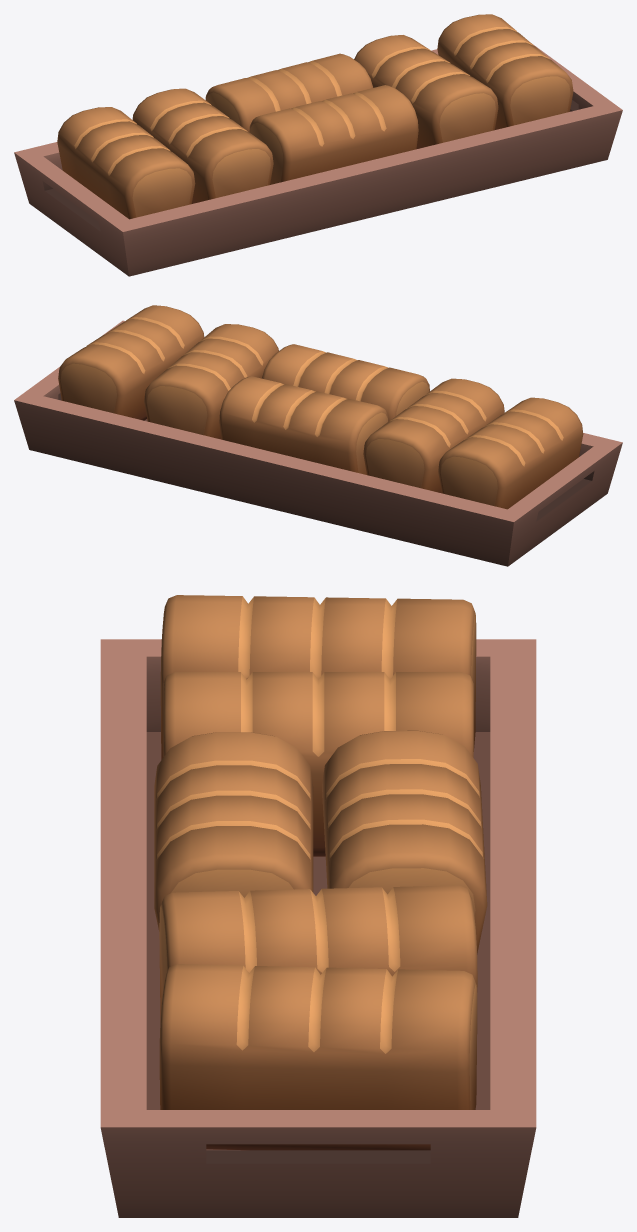
The model's file is Baguetteplatte.fbx.
The picture shows the model from 3 angles, top to bottom: view 1: azimuth 30°, elevation 25°; view 2: azimuth 150°, elevation 25°; view 3: azimuth 270°, elevation 25°; orthographic projection. The views are drawn at different scales.
Parts seen in each view (by area): view 1: Plane.006, Cube.028, Cube.026, Cube.029, Cube.024, Cube.025, Cube.027; view 2: Plane.006, Cube.027, Cube.026, Cube.024, Cube.029, Cube.025, Cube.028; view 3: Plane.006, Cube.024, Cube.025, Cube.028, Cube.027, Cube.026, Cube.029.
Boxes of the visible parts, left/top/right/bottom form: Plane.006: left=14, top=43, right=622, bottom=276; Cube.028: left=249, top=85, right=418, bottom=184; Cube.026: left=57, top=107, right=195, bottom=219; Cube.029: left=132, top=88, right=273, bottom=203; Cube.024: left=437, top=14, right=573, bottom=129; Cube.025: left=354, top=35, right=498, bottom=148; Cube.027: left=205, top=53, right=373, bottom=131; Plane.006: left=14, top=320, right=622, bottom=566; Cube.027: left=219, top=376, right=388, bottom=474; Cube.026: left=438, top=397, right=583, bottom=509; Cube.024: left=58, top=305, right=204, bottom=420; Cube.029: left=363, top=378, right=504, bottom=493; Cube.025: left=144, top=324, right=278, bottom=439; Cube.028: left=262, top=344, right=429, bottom=421; Plane.006: left=100, top=639, right=536, bottom=1217; Cube.024: left=159, top=964, right=477, bottom=1150; Cube.025: left=159, top=885, right=477, bottom=1020; Cube.028: left=154, top=732, right=313, bottom=931; Cube.027: left=322, top=730, right=487, bottom=954; Cube.026: left=160, top=595, right=476, bottom=759; Cube.029: left=163, top=672, right=473, bottom=856.
Size of the model in its own units: 45.49 by 8.06 by 17.17.
